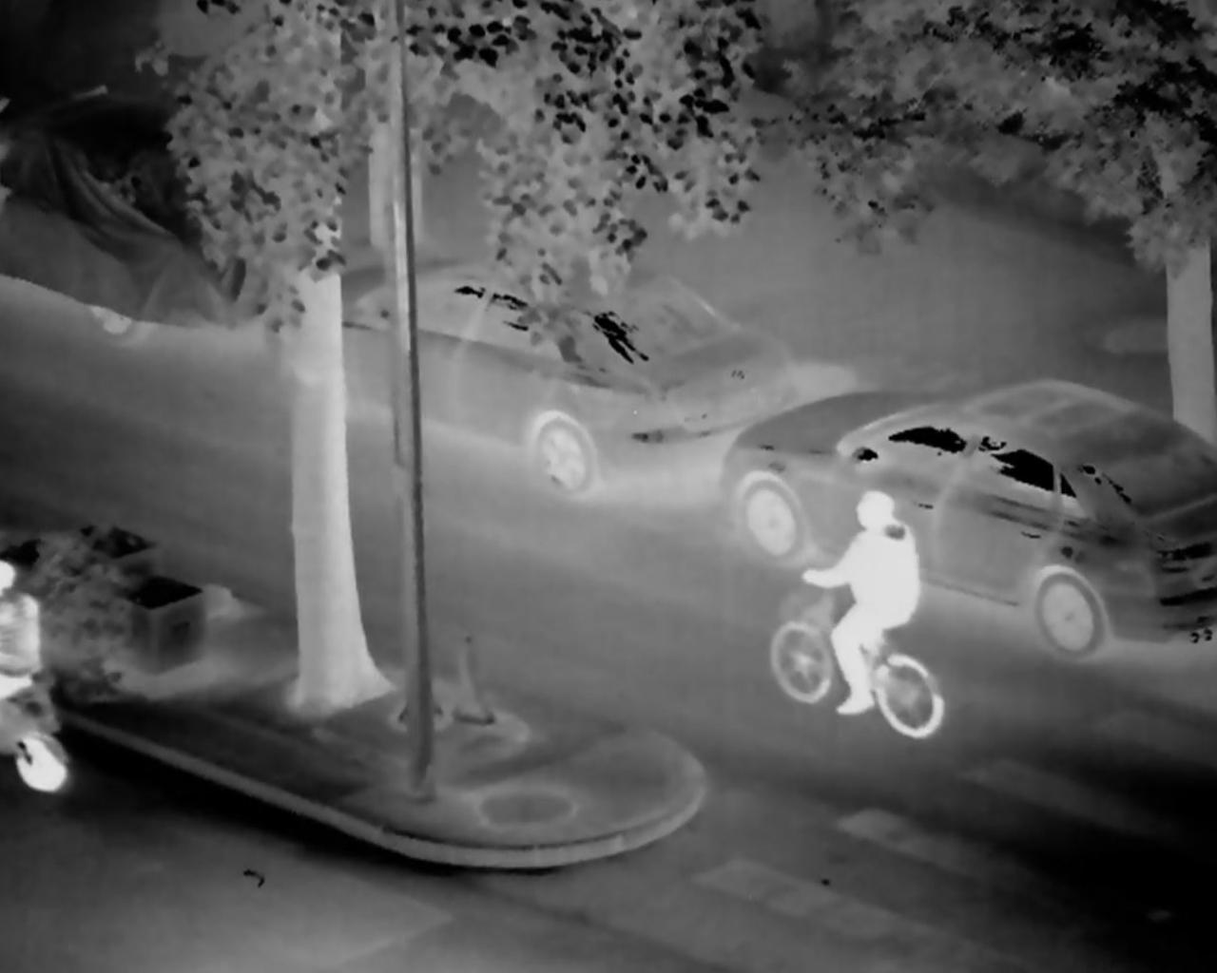person: (789, 483, 930, 721)
